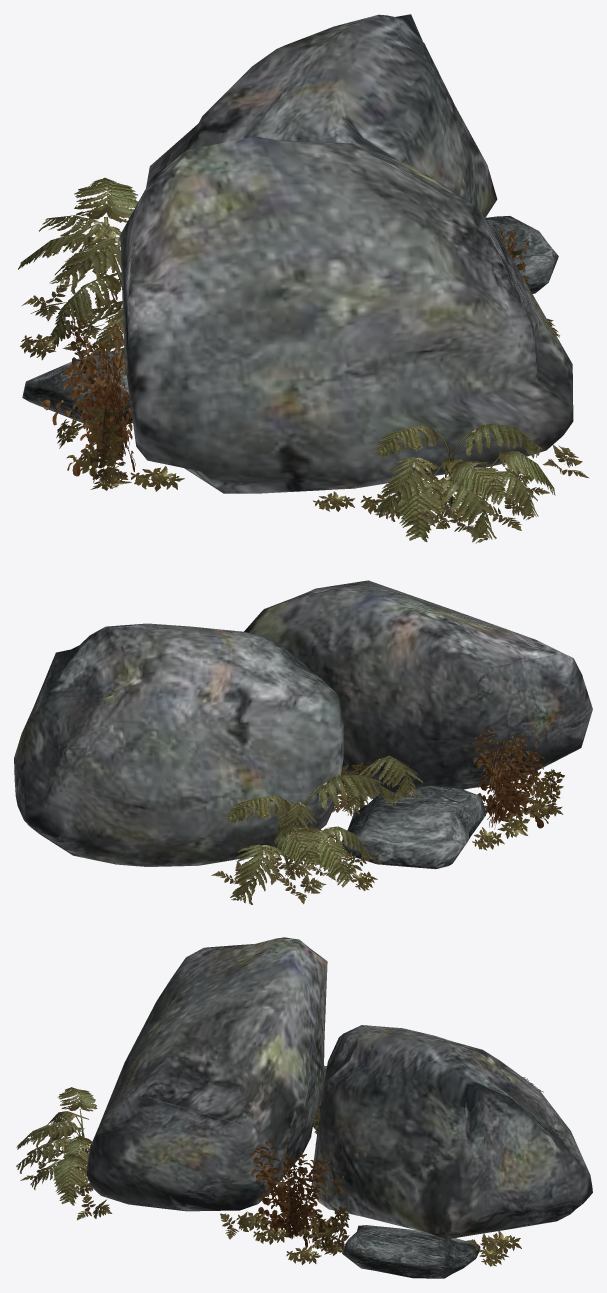
The model's file is rocks_large01_veg.glb.
3 renders of one model, top to bottom at view 1: azimuth 30°, elevation 25°; view 2: azimuth 150°, elevation 25°; view 3: azimuth 270°, elevation 25°, orthographic. The views are drawn at different scales.
Visible parts, largest first — view 1: 0_Rocks02, 1_Rocks_vegetation; view 2: 0_Rocks02, 1_Rocks_vegetation; view 3: 0_Rocks02, 1_Rocks_vegetation.
Part boxes in pixels (box(x1,y1,x2,y2)): 0_Rocks02: box(22, 14, 573, 493); 1_Rocks_vegetation: box(18, 177, 588, 543); 0_Rocks02: box(14, 580, 592, 869); 1_Rocks_vegetation: box(211, 728, 564, 904); 0_Rocks02: box(86, 937, 592, 1278); 1_Rocks_vegetation: box(16, 1076, 543, 1266).
Size of the model in its own units: 3.92 by 1.79 by 4.52.
2 materials, 2 textured.
